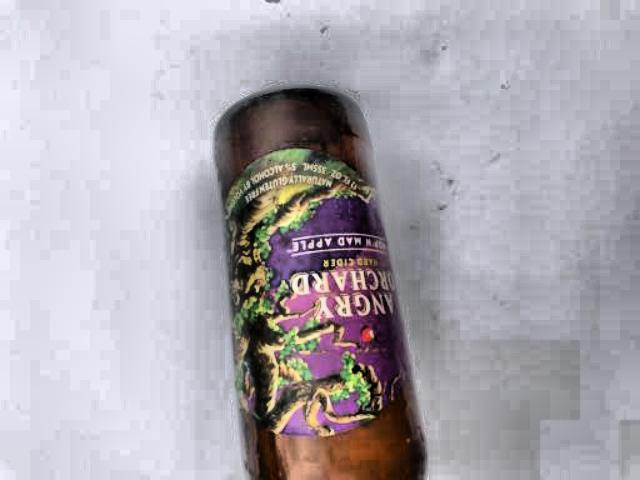Bottles: (179, 68, 459, 480)
